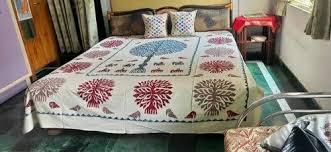bed: (23, 2, 263, 134)
chair: (223, 90, 331, 152)
door: (11, 0, 60, 71)
table: (235, 17, 279, 63)
